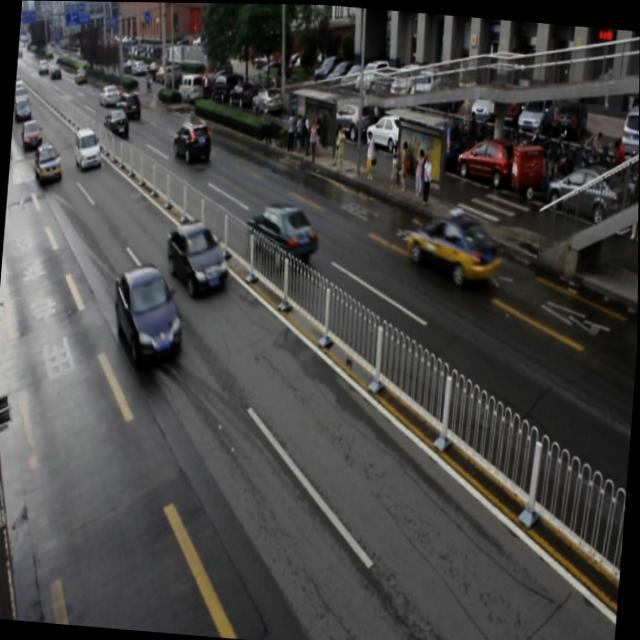car: (403, 202, 501, 286), (109, 263, 186, 367), (162, 217, 231, 295), (242, 199, 320, 267), (173, 119, 212, 164), (32, 140, 65, 184), (73, 126, 103, 169), (102, 107, 130, 139)
